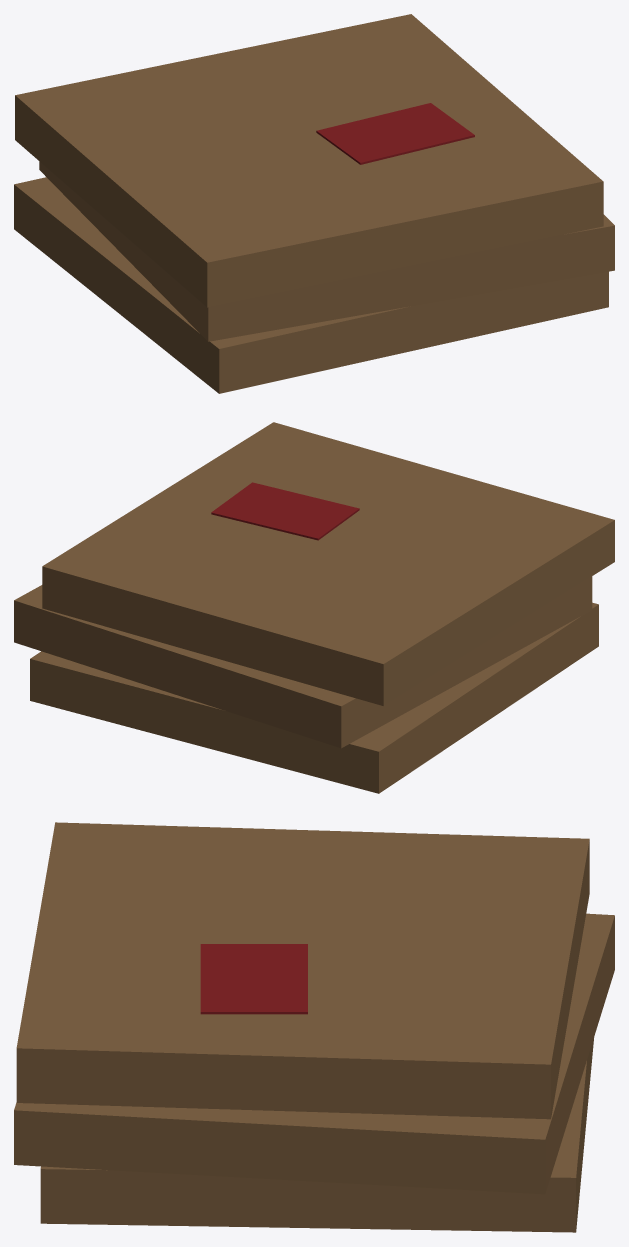
File: Deco_PizzaBoxes.001.gltf
3 renders of one model, top to bottom at view 1: azimuth 30°, elevation 25°; view 2: azimuth 150°, elevation 25°; view 3: azimuth 270°, elevation 25°, orthographic. The views are drawn at different scales.
Parts seen in each view (by area): view 1: Deco_PizzaBoxes.001; view 2: Deco_PizzaBoxes.001; view 3: Deco_PizzaBoxes.001.
Part boxes in pixels (x1,y1,x2,y2): Deco_PizzaBoxes.001: (14,14,614,393); Deco_PizzaBoxes.001: (14,422,614,793); Deco_PizzaBoxes.001: (14,822,614,1232).
Size of the model in its own units: 0.4618 by 0.141 by 0.4486.
